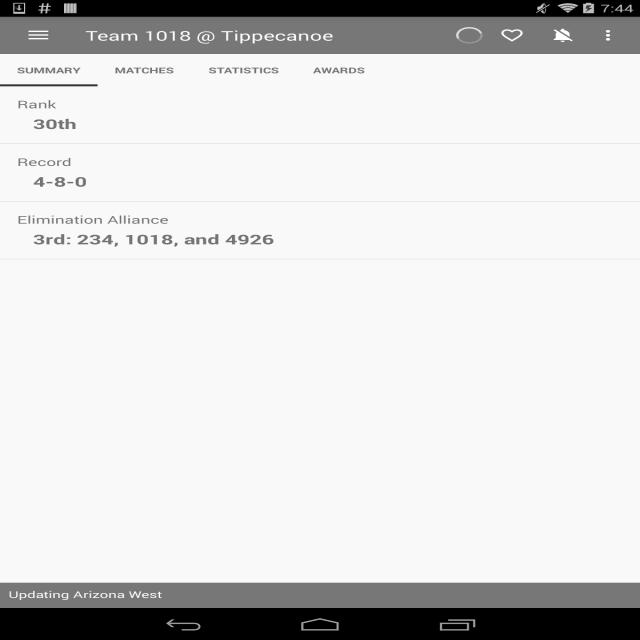ImageButton: (9, 17, 68, 54)
ImageView: (589, 19, 631, 52)
ProgressBar: (452, 25, 487, 46)
TextView: (0, 583, 640, 608), (85, 26, 334, 44), (33, 230, 274, 248), (191, 54, 295, 86), (0, 54, 98, 86), (98, 54, 191, 86), (295, 54, 382, 86), (17, 212, 169, 227), (487, 19, 538, 52), (538, 19, 588, 52), (33, 172, 87, 190), (33, 114, 77, 132), (17, 155, 72, 169), (17, 97, 56, 111)
